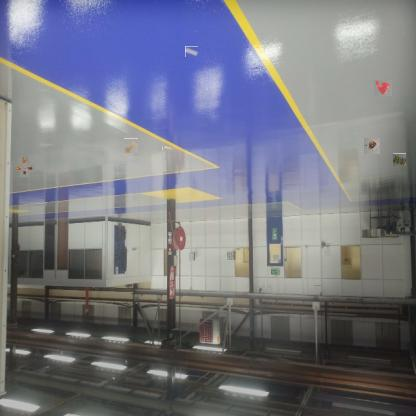dirty: (364, 138, 380, 154), (18, 160, 32, 174), (392, 153, 406, 166), (185, 46, 198, 57), (162, 146, 173, 150)
liquid: (374, 80, 392, 96), (124, 139, 139, 153)
